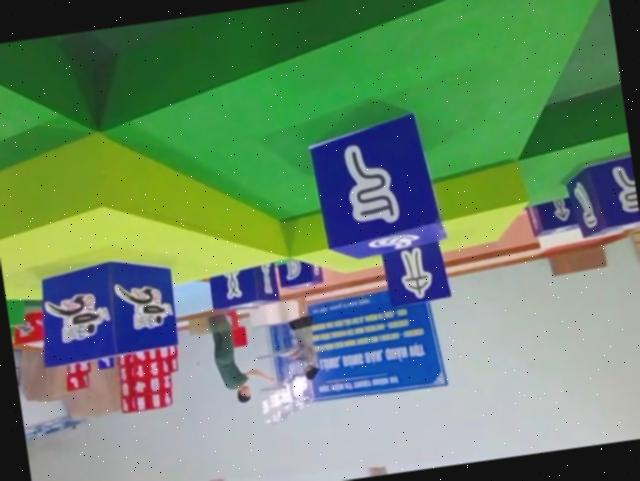R1 Blue: (31, 252, 180, 368)
R2 Fake Blue: (306, 109, 448, 263), (564, 151, 640, 239), (380, 237, 451, 307)
R2 Real Blue: (207, 261, 280, 312), (524, 196, 580, 238), (276, 255, 325, 291)
